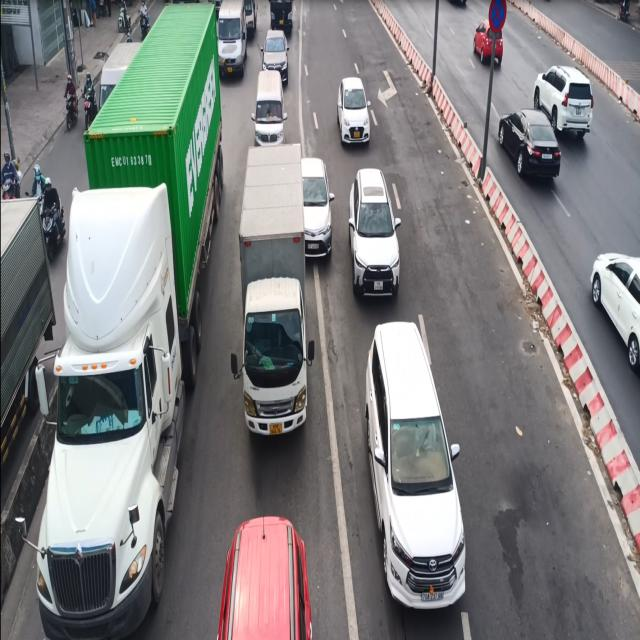car: (356, 326, 474, 621), (343, 166, 402, 305), (248, 66, 285, 148), (333, 72, 371, 148)
truck: (36, 7, 222, 640), (237, 136, 315, 457)
